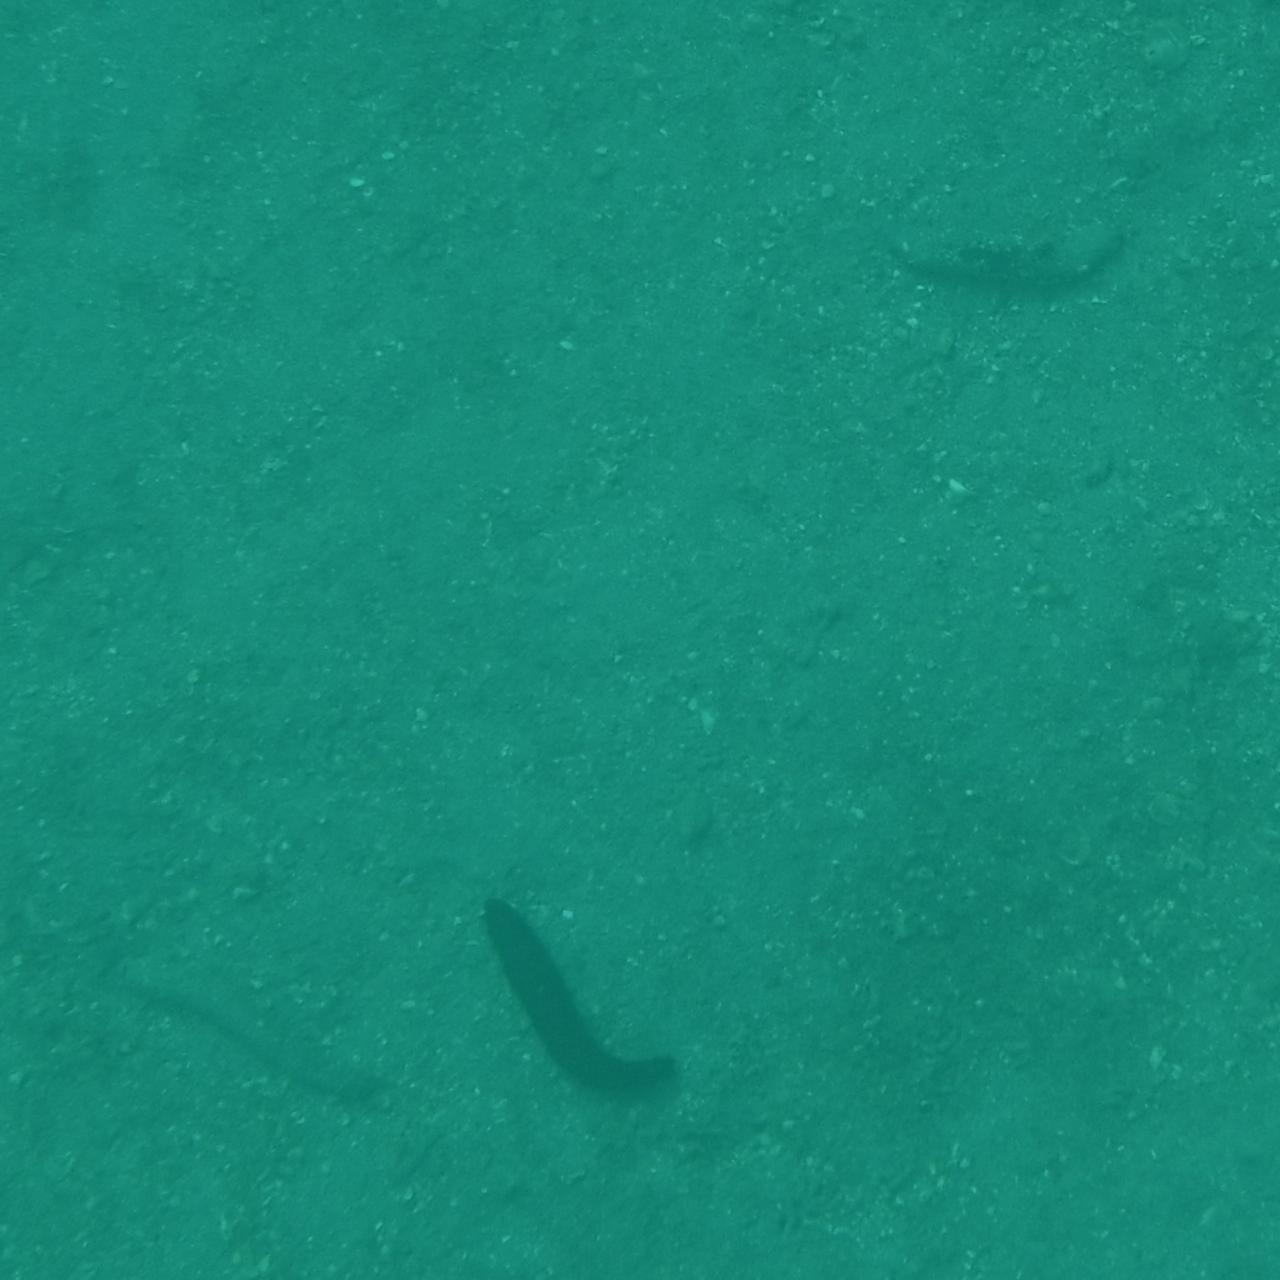Holothuria tubulosa: (142, 935, 392, 1123), (486, 896, 652, 1087), (884, 205, 1143, 299)
